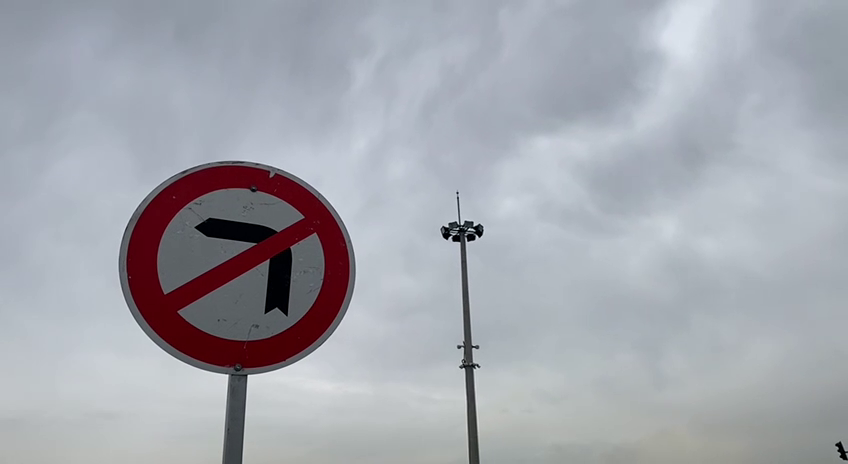noTurnLeft: (114, 153, 361, 379)
